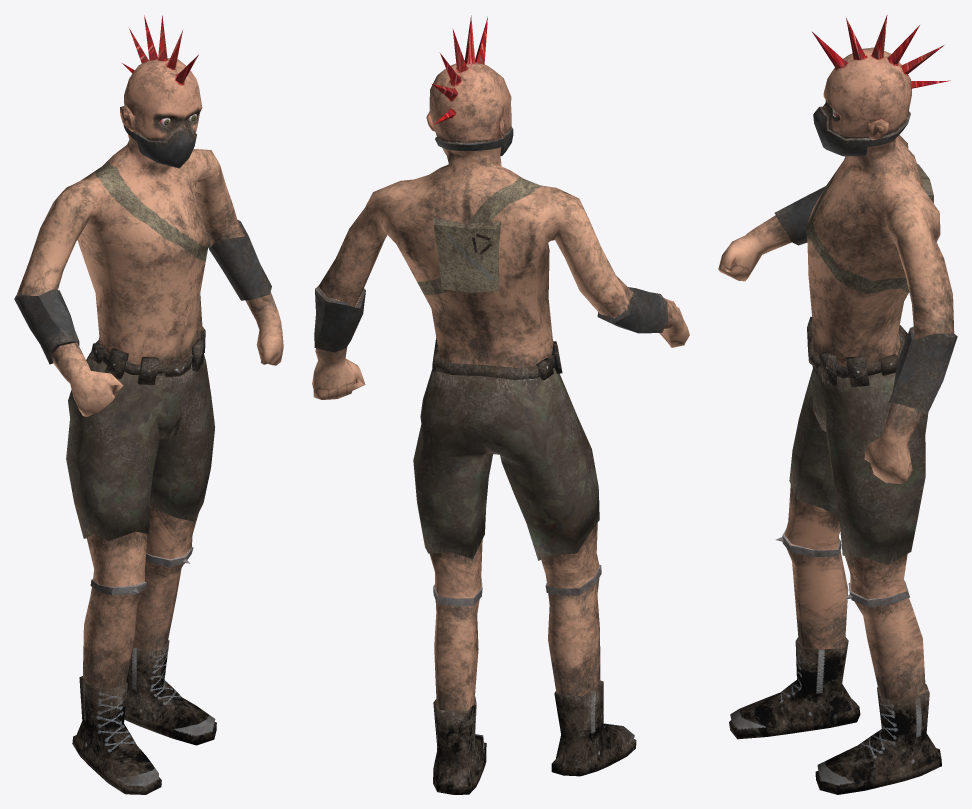
The model's file is Anim_disparar_pistola_npc2.0028.obj.
The picture shows the model from 3 angles, left to right: view 1: azimuth 30°, elevation 25°; view 2: azimuth 150°, elevation 25°; view 3: azimuth 270°, elevation 25°; orthographic projection. The views are drawn at different scales.
Parts seen in each view (by area): view 1: polySurface1; view 2: polySurface1; view 3: polySurface1.
Part boxes in pixels (x1,y1,x2,y2): polySurface1: (14,15,283,794); polySurface1: (312,15,689,794); polySurface1: (718,15,957,794).
Size of the model in its own units: 4.31 by 10.19 by 2.89.
